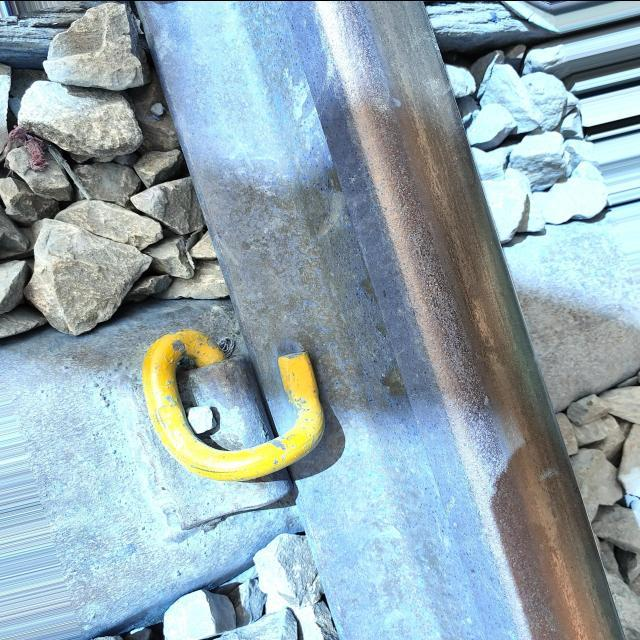broken_rail_medium: (537, 465, 563, 480), (387, 94, 403, 108), (481, 394, 493, 408)
